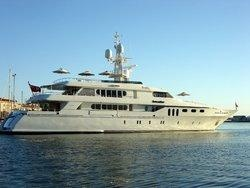yacht: (1, 32, 239, 135)
